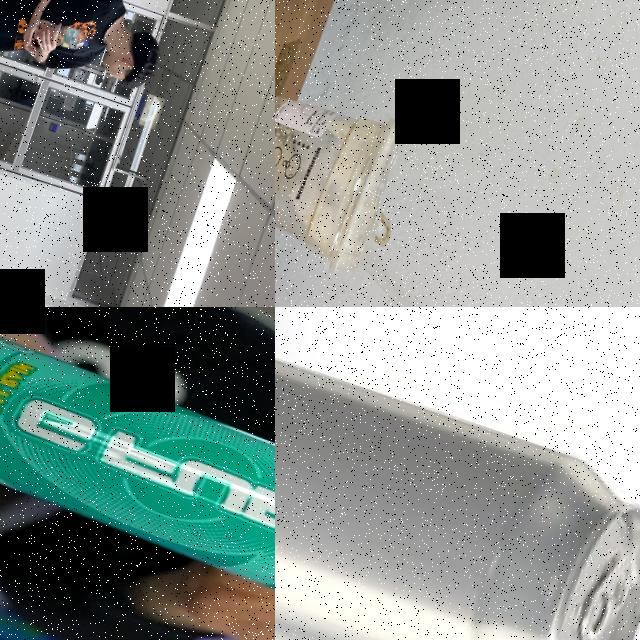bottle: (31, 14, 91, 56)
can: (275, 310, 640, 640), (0, 333, 275, 640)
cup: (275, 60, 409, 282)
